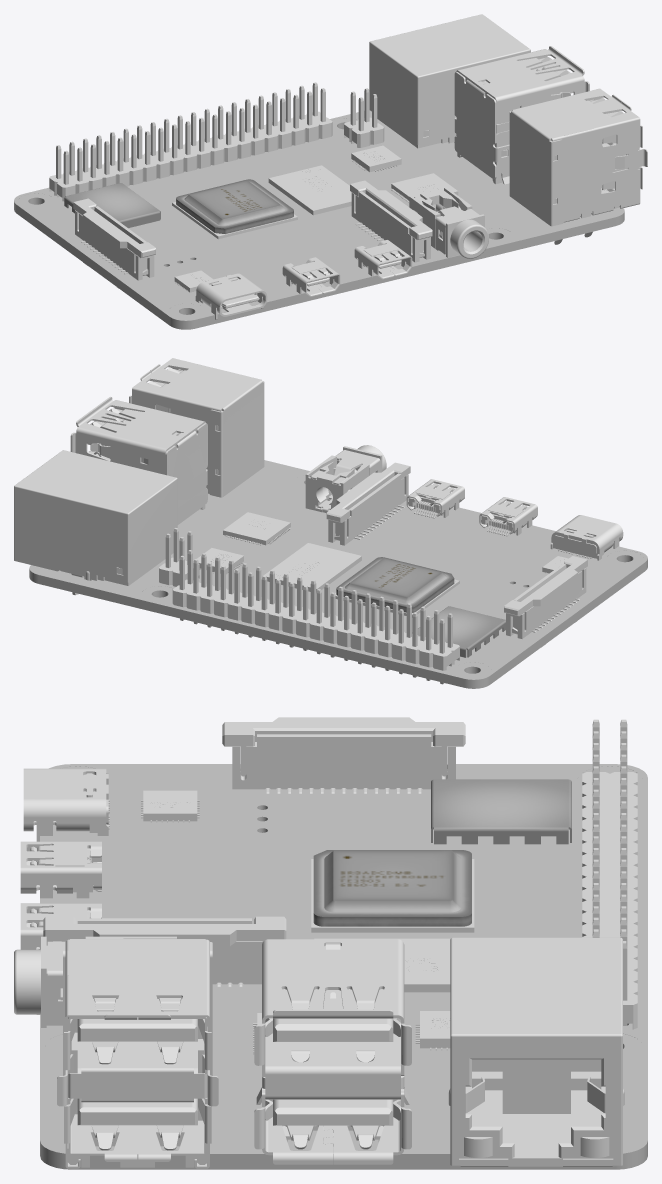
File: RPi4Mat.fbx
3 renders of one model, top to bottom at view 1: azimuth 30°, elevation 25°; view 2: azimuth 150°, elevation 25°; view 3: azimuth 270°, elevation 25°, orthographic. The views are drawn at different scales.
Visible parts, largest first — view 1: Raspberry Pi 4 Model B fusion; view 2: Raspberry Pi 4 Model B fusion; view 3: Raspberry Pi 4 Model B fusion.
Boxes of the visible parts, bbox=[...] form: Raspberry Pi 4 Model B fusion: bbox=[14, 14, 647, 329]; Raspberry Pi 4 Model B fusion: bbox=[14, 358, 647, 688]; Raspberry Pi 4 Model B fusion: bbox=[14, 717, 647, 1169].
Size of the model in its own units: 329 by 73.55 by 216.
